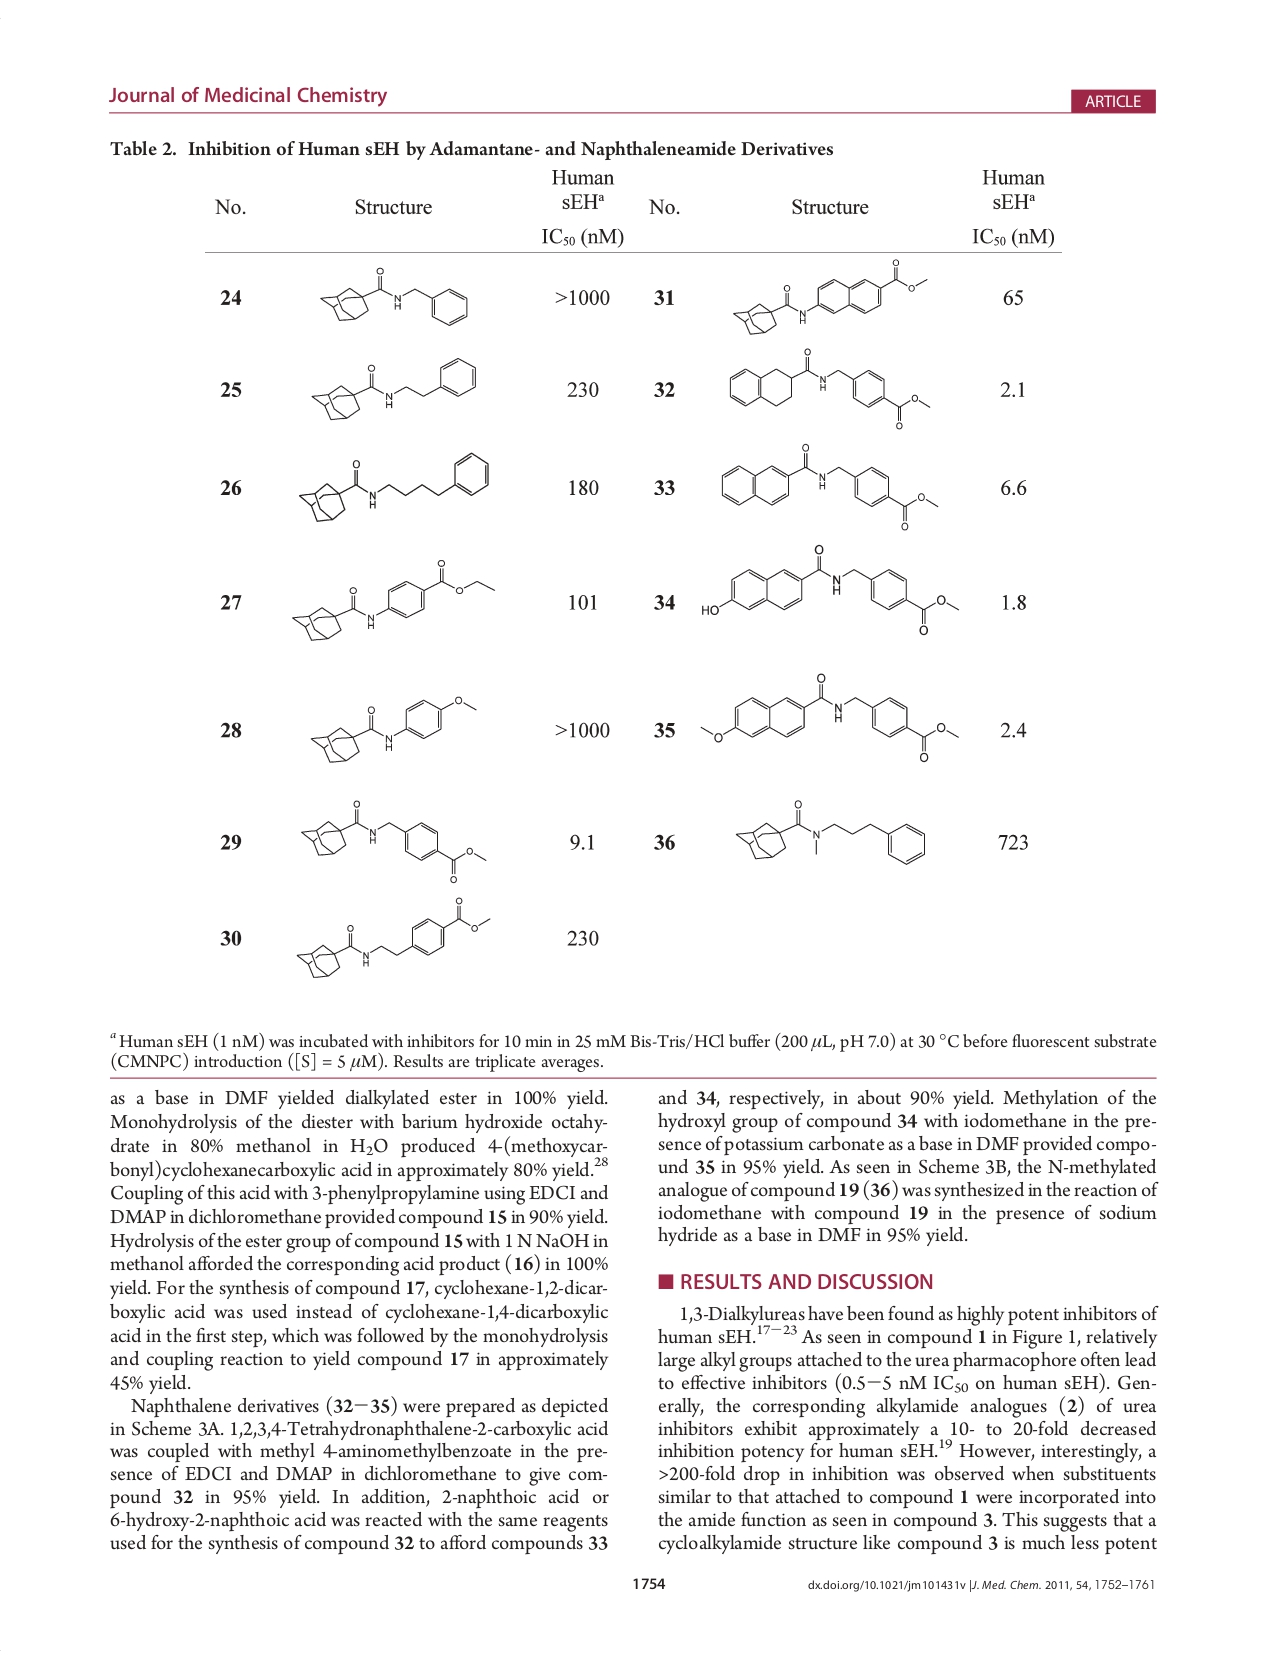exist_molecular: (698, 668, 961, 767), (698, 541, 961, 640), (717, 439, 942, 531), (290, 555, 496, 645), (722, 344, 935, 431), (293, 892, 493, 983), (297, 797, 493, 886), (727, 793, 934, 874), (730, 257, 931, 339), (298, 449, 496, 527), (309, 352, 479, 426), (309, 693, 476, 763), (315, 265, 473, 330)
